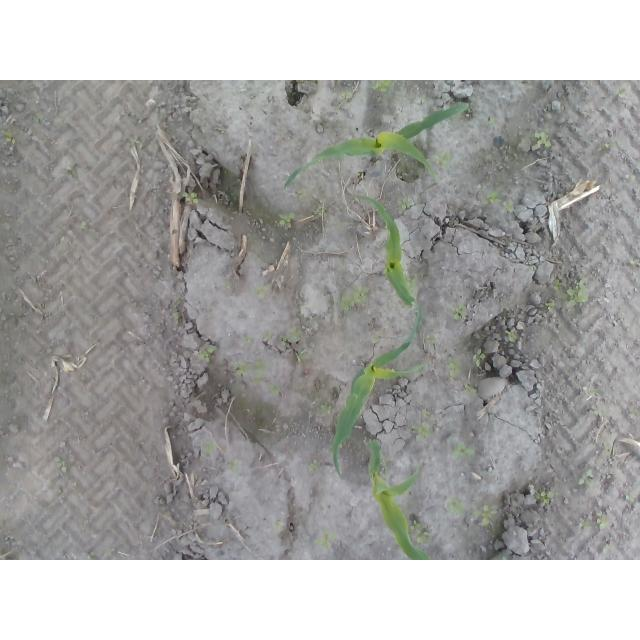Maize: (332, 308, 428, 477), (284, 104, 468, 185), (367, 440, 429, 560), (356, 194, 416, 304)
Weeds: (473, 503, 500, 525), (409, 520, 432, 545), (567, 281, 589, 306), (343, 288, 370, 307), (451, 441, 477, 459), (578, 467, 594, 488), (315, 532, 337, 547), (372, 80, 392, 96), (415, 426, 432, 443), (199, 345, 217, 361), (473, 348, 486, 369), (448, 360, 463, 377), (448, 498, 465, 513), (537, 490, 554, 505), (181, 192, 200, 205), (1, 130, 16, 146), (53, 457, 67, 474), (233, 360, 247, 377), (535, 130, 549, 147), (255, 359, 265, 382), (453, 304, 467, 320), (436, 150, 449, 166), (312, 203, 326, 217), (279, 214, 294, 227), (281, 333, 296, 346), (397, 199, 416, 209), (320, 402, 335, 414), (553, 279, 564, 295), (507, 330, 520, 343), (503, 200, 516, 212), (486, 192, 498, 204), (296, 188, 307, 201), (578, 519, 592, 529), (465, 383, 477, 394), (596, 516, 609, 526), (308, 461, 319, 471), (547, 301, 556, 312)
